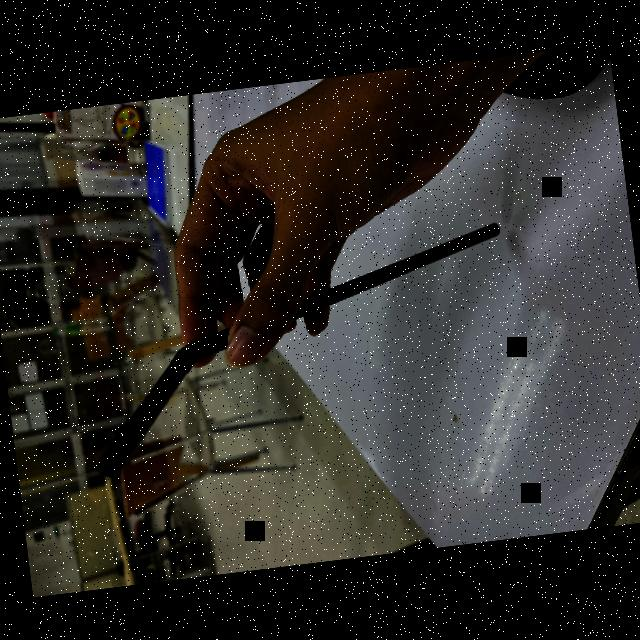straw: (62, 220, 532, 488)
